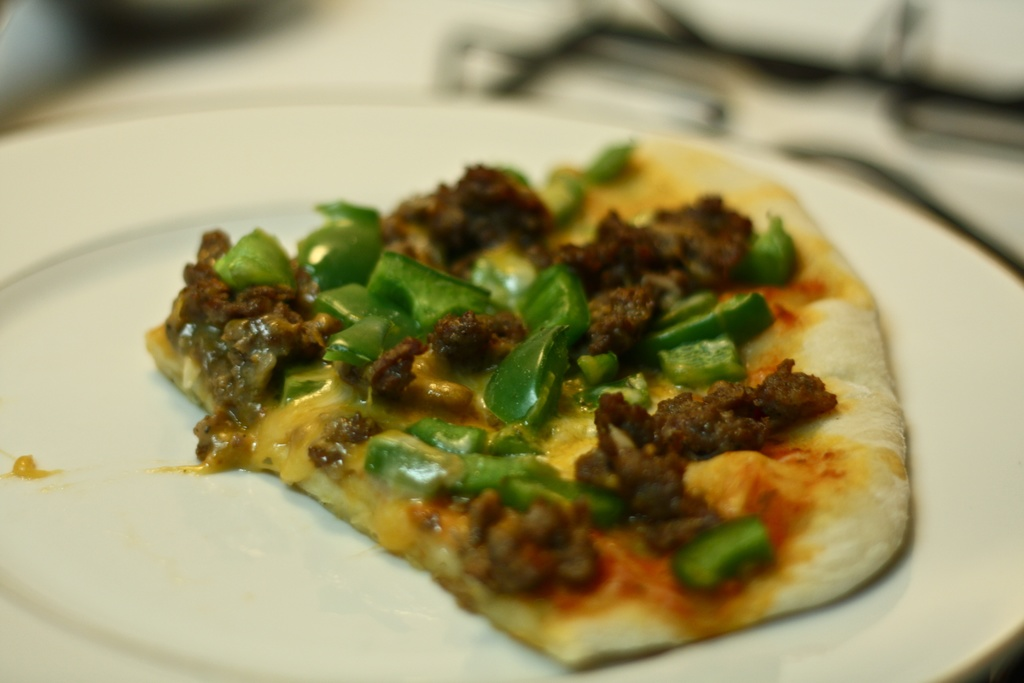Pizza: (149, 133, 917, 672)
